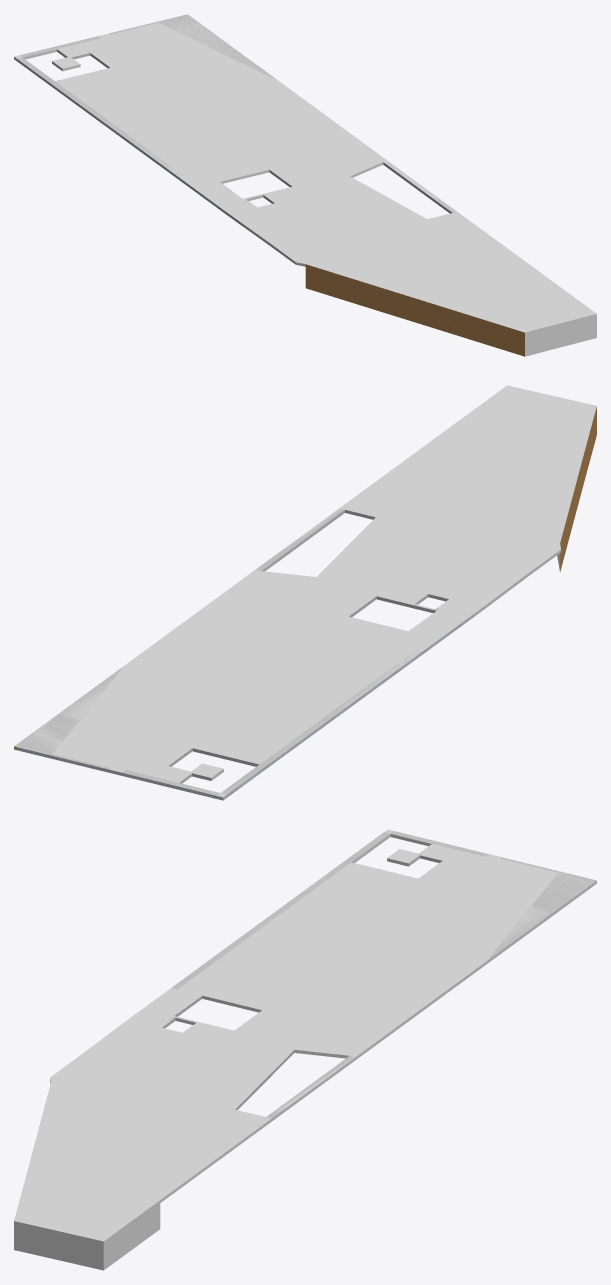
Rendered from imp_0_floor_aisle_b_ground_sized.glb.
The picture shows the model from 3 angles, top to bottom: view 1: azimuth 30°, elevation 25°; view 2: azimuth 150°, elevation 25°; view 3: azimuth 330°, elevation 25°; orthographic projection. The views are drawn at different scales.
Visible parts, largest first — view 1: SIMP_COL, NOCOL_UFR_MIM_V1_SOl; view 2: SIMP_COL, NOCOL_UFR_MIM_V1_SOl; view 3: SIMP_COL, NOCOL_UFR_MIM_V1_SOl.
Part boxes in pixels (bbox=[...]): SIMP_COL: bbox=[14, 16, 596, 356]; NOCOL_UFR_MIM_V1_SOl: bbox=[14, 14, 524, 356]; SIMP_COL: bbox=[14, 385, 596, 799]; NOCOL_UFR_MIM_V1_SOl: bbox=[14, 406, 596, 800]; SIMP_COL: bbox=[14, 829, 596, 1270]; NOCOL_UFR_MIM_V1_SOl: bbox=[162, 831, 596, 1118].
Size of the model in its own units: 16.5 by 2.19 by 67.57.
Materials: 10 (7 with a texture image).
